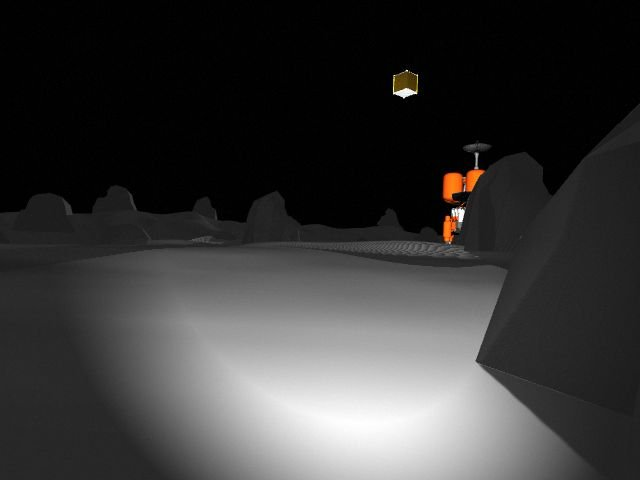cubesat: (387, 66, 428, 105)
